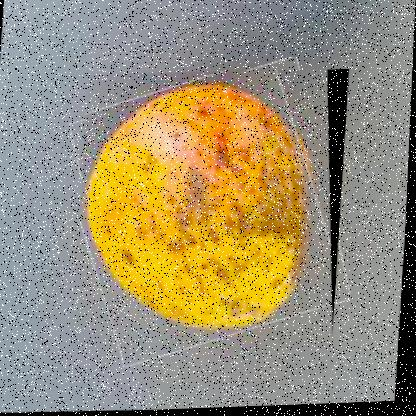mango_rotten: (74, 65, 351, 360)
